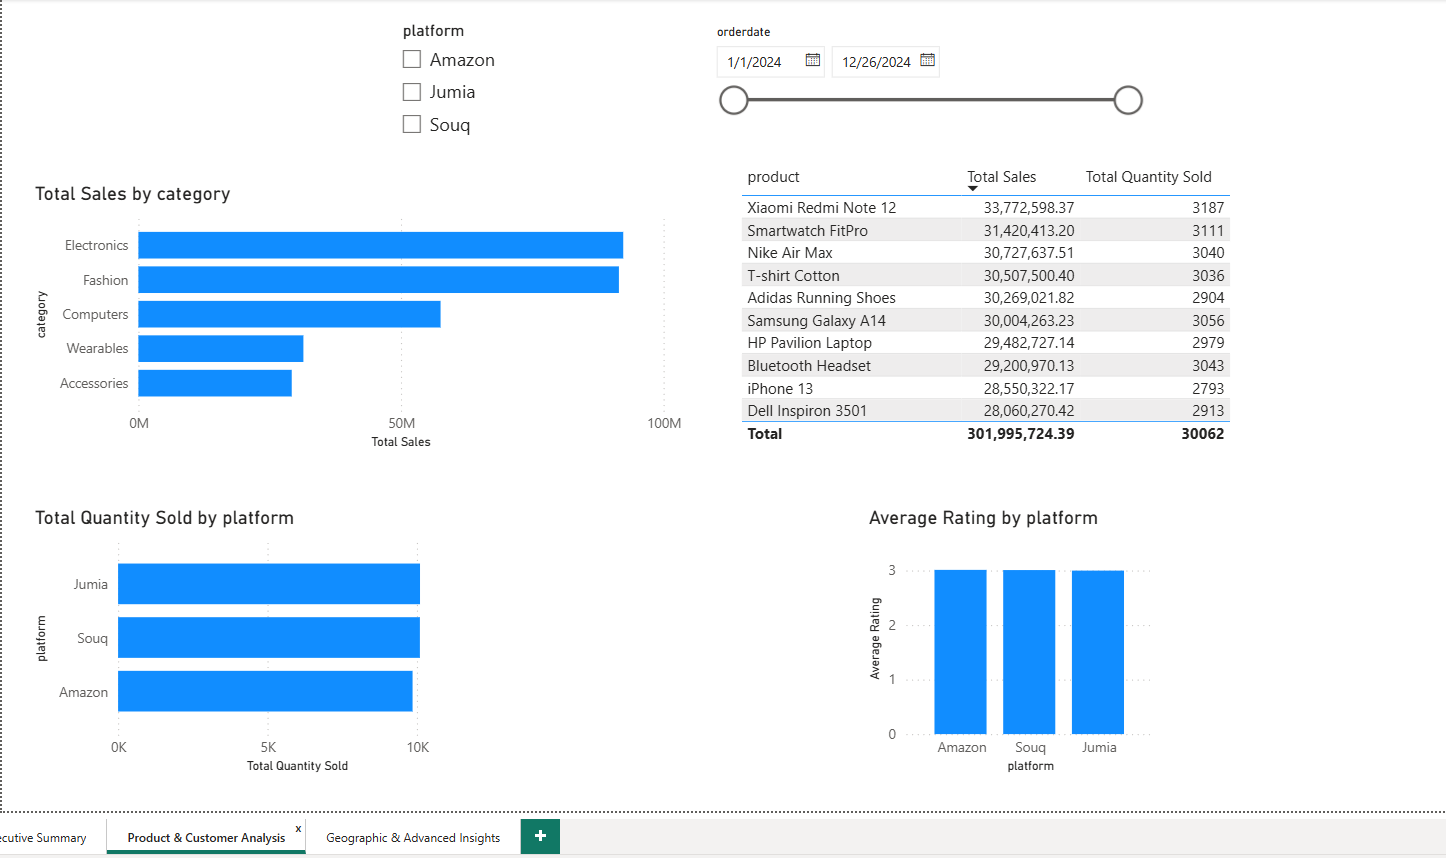

This screenshot's page, from the dashboard's own definition file:
{"tool":"powerbi","page":{"name":"Product & Customer Analysis","canvas":[1280,720],"ordinal":1},"visuals":[{"type":"clusteredBarChart","fields":{"Y":["FactSales.Total Sales"],"Category":["DimProduct.category"]},"box":[24.2,162.2,583.6,241.3],"z":0},{"type":"tableEx","fields":{"Values":["DimProduct.product","FactSales.Total Sales","FactSales.Total Quantity Sold"]},"box":[650,142.2,479.3,282.3],"z":1000},{"type":"columnChart","fields":{"Y":["FactSales.Average Rating"],"Category":["DimPlatform.platform"]},"box":[763.8,449.8,263.4,241.3],"z":2000},{"type":"barChart","fields":{"Y":["FactSales.Total Quantity Sold"],"Category":["DimPlatform.platform"]},"box":[24.2,449.8,411.9,241.3],"z":3000},{"type":"slicer","fields":{"Values":["DimDate.orderdate"]},"box":[620.5,17.9,399.3,110.6],"z":4000},{"type":"slicer","fields":{"Values":["DimPlatform.platform"]},"box":[342.4,14.7,160.1,118],"z":5000}]}

Visuals, with their boxes on the page's 1280x720 design canvas (x1, y1, x2, y2). These are canvas units, not pixel positions in the 1446x858 screenshot, which may show the page scaled, cropped or inside an application window:
clusteredBarChart - FactSales.Total Sales x DimProduct.category: 24:162:608:404
tableEx - DimProduct.product x FactSales.Total Sales: 650:142:1129:424
columnChart - FactSales.Average Rating x DimPlatform.platform: 764:450:1027:691
barChart - FactSales.Total Quantity Sold x DimPlatform.platform: 24:450:436:691
slicer - DimDate.orderdate: 620:18:1020:128
slicer - DimPlatform.platform: 342:15:502:133
